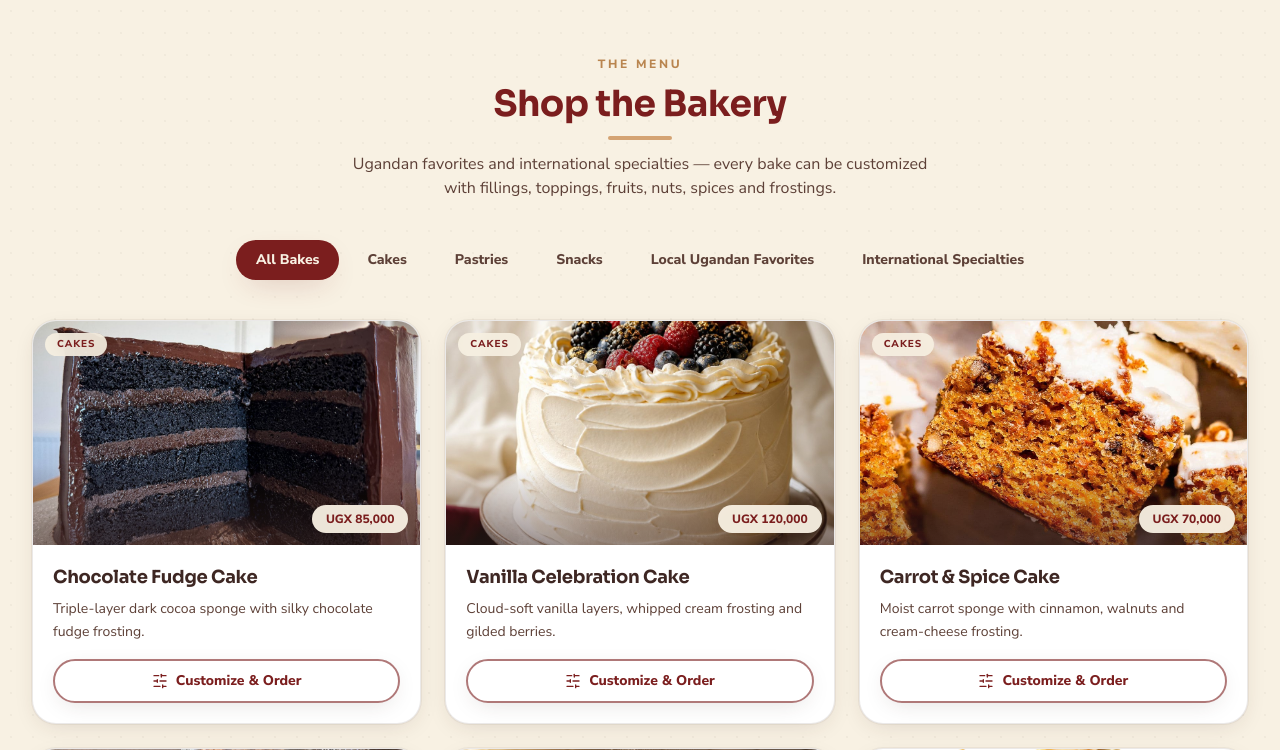
Storefront › filters shop categories
expect the heading "Chocolate Fudge Cake" is shown: met, box x1=53 y1=566 x2=257 y2=588
Click the tab "Local Ugandan Favorites".
click(732, 260)  # box x1=631 y1=240 x2=834 y2=280
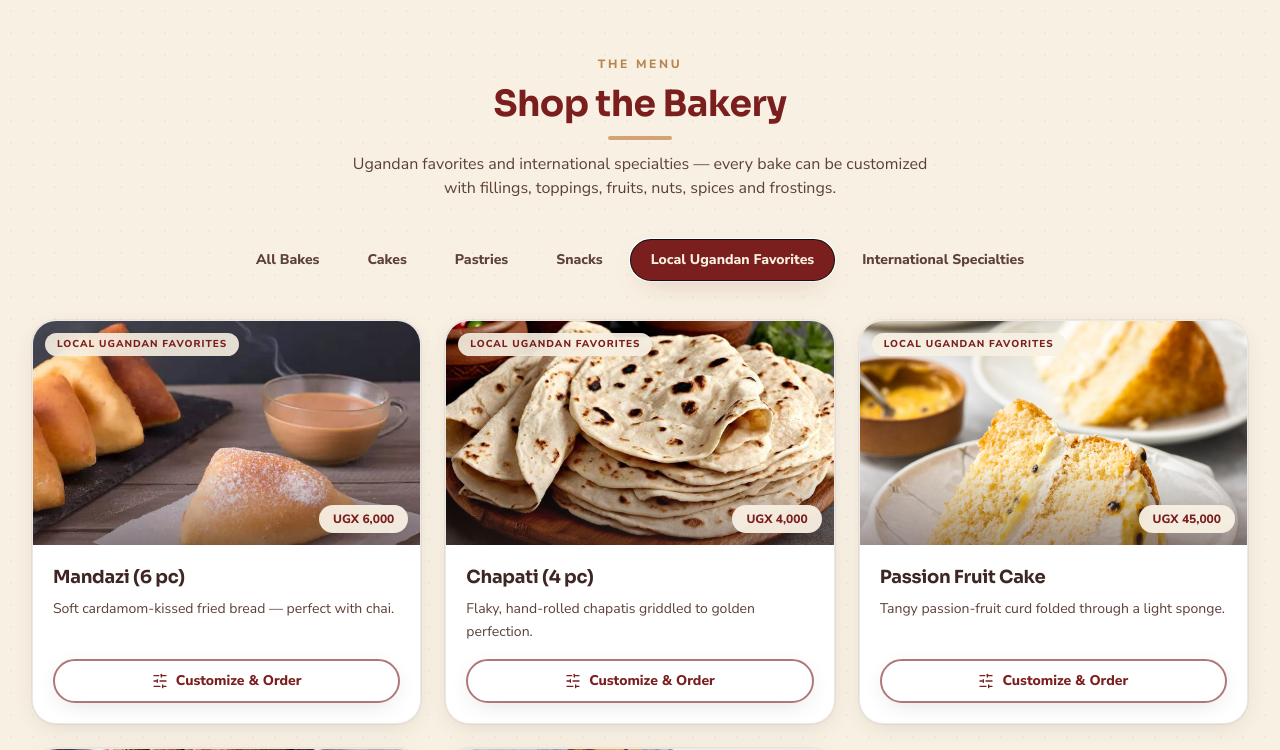
expect the heading "Mandazi (6 pc)" is shown: met, box x1=53 y1=566 x2=185 y2=588
expect the heading "Chocolate Fudge Cake" is gone: met
